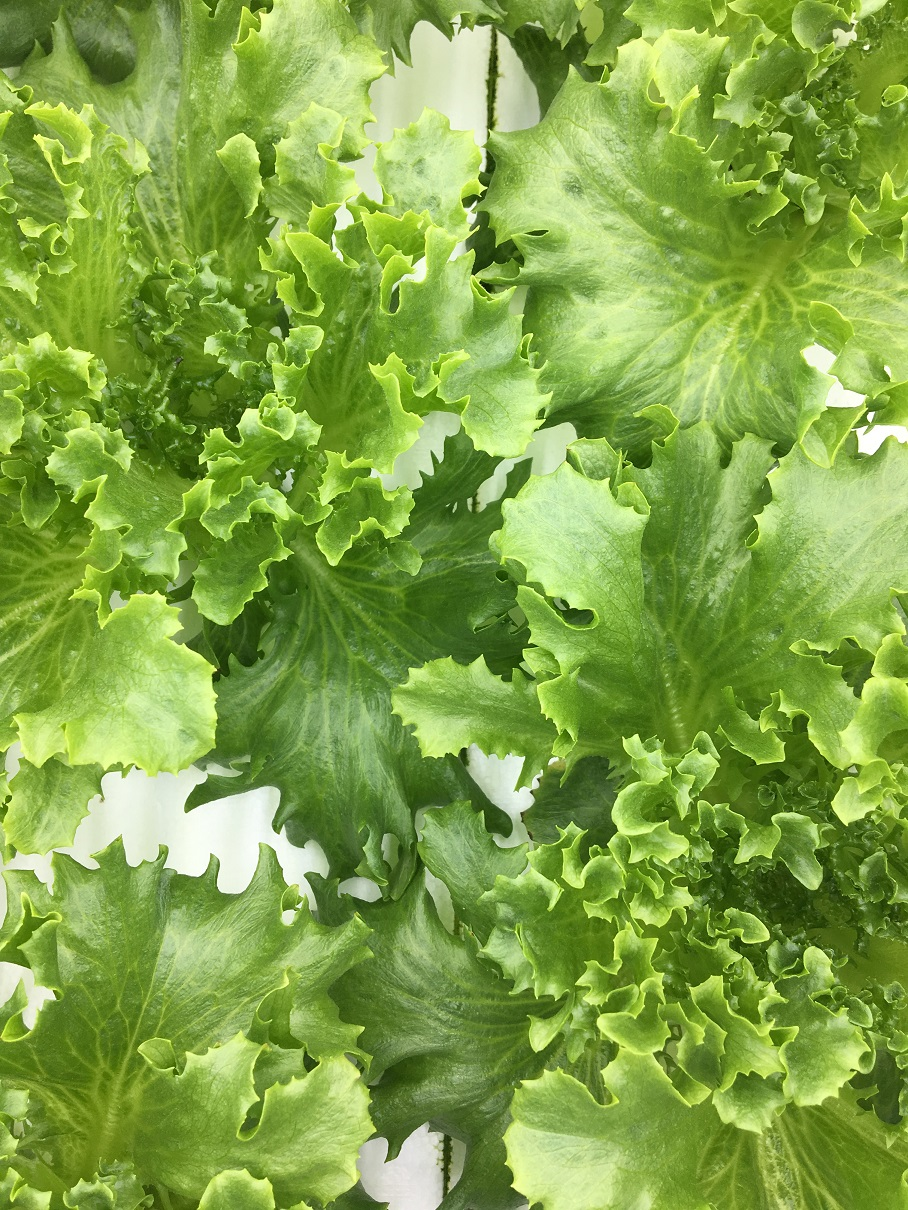tipburn: (168, 352, 192, 372), (512, 807, 532, 825), (531, 769, 549, 786), (522, 784, 540, 801), (521, 828, 538, 843)
